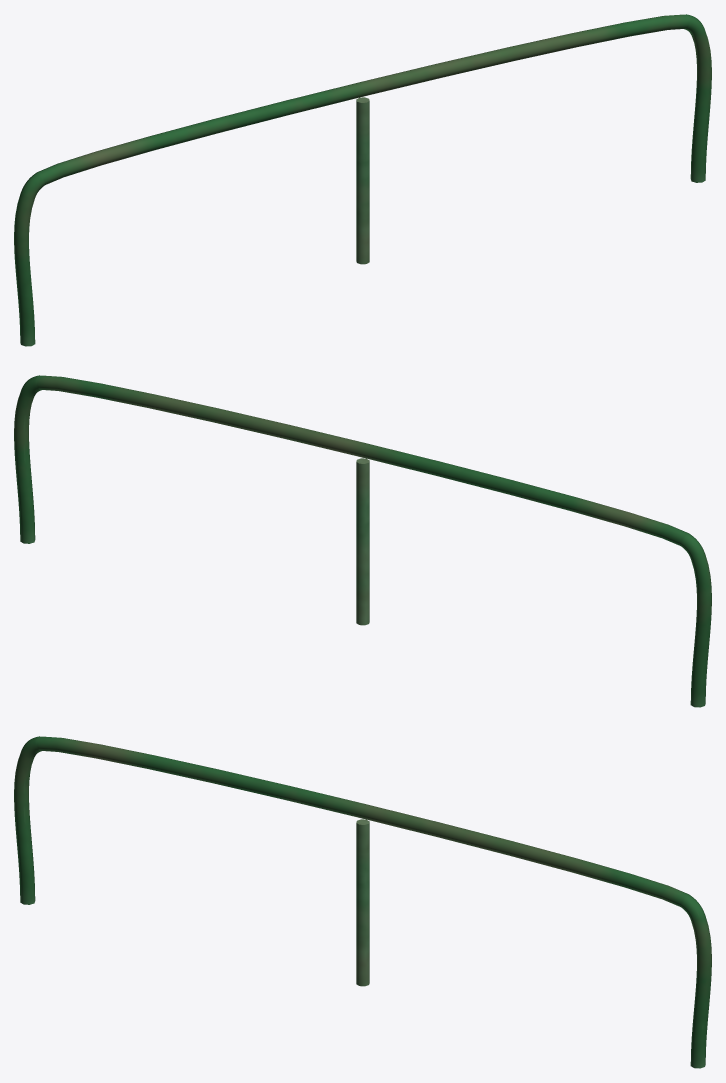
Rendered from pod_barierka.glb.
3 views of the same model, one above another, from view 1: azimuth 30°, elevation 25°; view 2: azimuth 150°, elevation 25°; view 3: azimuth 330°, elevation 25° (orthographic).
Visible parts, largest first — view 1: Barierka; view 2: Barierka; view 3: Barierka.
Part boxes in pixels (x1,y1,x2,y2): Barierka: [14, 14, 711, 346]; Barierka: [14, 375, 711, 707]; Barierka: [14, 736, 711, 1068].
Size of the model in its own units: 2.08 by 0.5117 by 0.04.
Materials: 1 (1 with a texture image).
